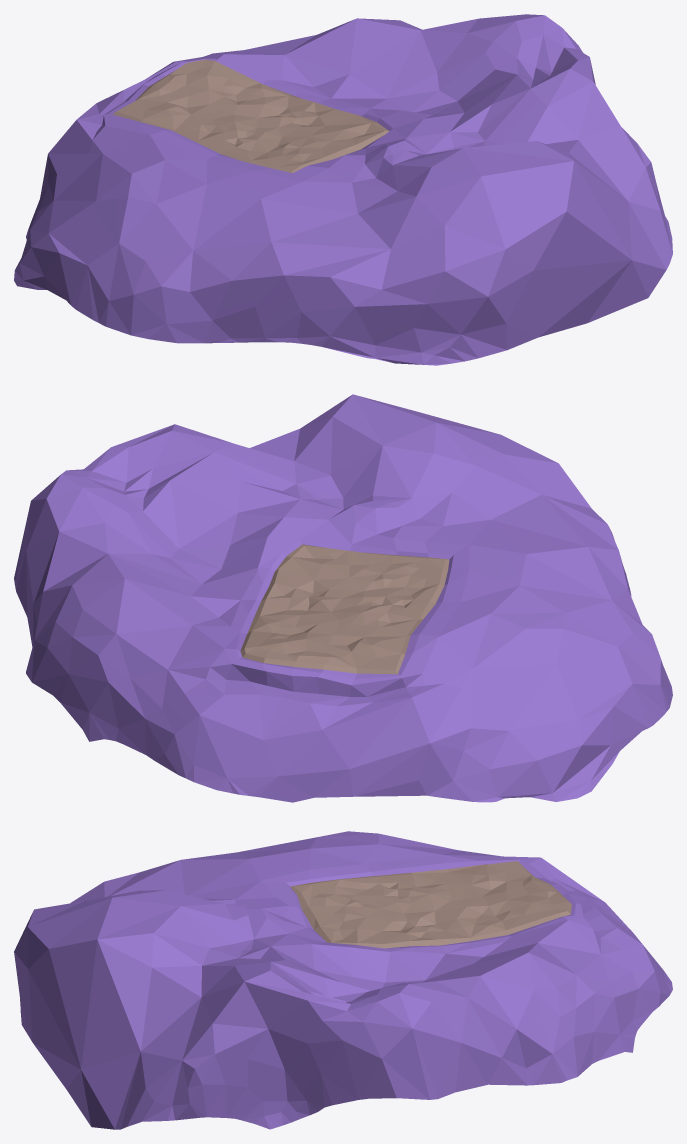
The model's file is ground_014.fbx.
3 views of the same model, one above another, from view 1: azimuth 30°, elevation 25°; view 2: azimuth 150°, elevation 25°; view 3: azimuth 270°, elevation 25° (orthographic). The views are drawn at different scales.
Visible parts, largest first — view 1: ground.014; view 2: ground.014; view 3: ground.014.
Boxes of the visible parts, x1,y1,x2,y2 form: ground.014: [14, 14, 672, 365]; ground.014: [14, 394, 672, 802]; ground.014: [14, 831, 672, 1129].
Bounding box in the file's own units: 2336 × 668 × 2433.
1 material, 1 textured.
